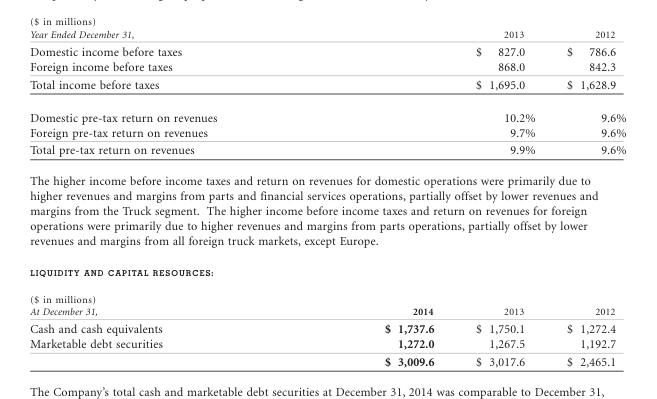table: (29, 28, 625, 368)
table column: (29, 28, 272, 368), (272, 28, 454, 368), (454, 28, 550, 368), (550, 28, 625, 368)
table column header: (29, 28, 625, 165)
table projected row header: (29, 165, 625, 285), (29, 285, 625, 304)
table row: (29, 28, 625, 165), (29, 165, 625, 285), (29, 285, 625, 304), (29, 319, 625, 336), (29, 336, 625, 352), (29, 352, 625, 368), (29, 304, 625, 319)
table spanning cell: (29, 28, 454, 165)
